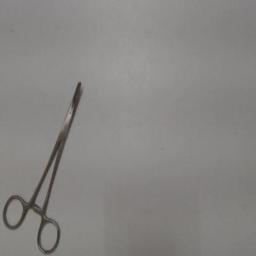Crile Artery Forceps: (1, 75, 85, 255)
